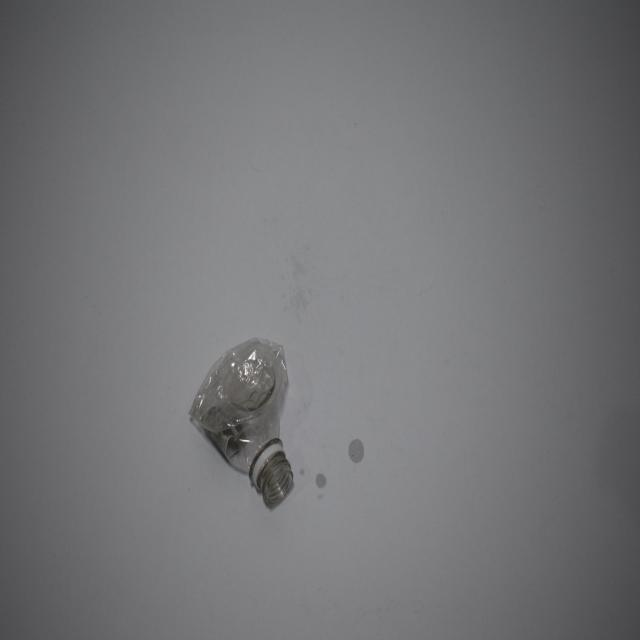bottle: (186, 335, 296, 515)
